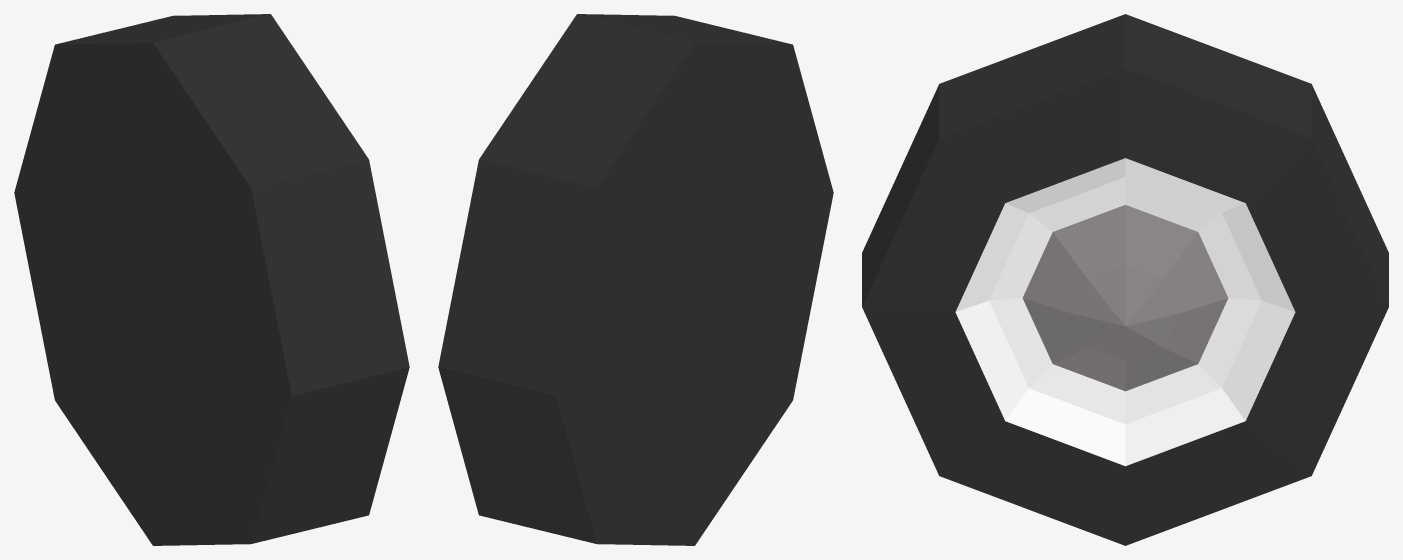
Rendered from car-veteran-wheel_BL.glb.
3 views of the same model, side by side, from view 1: azimuth 30°, elevation 25°; view 2: azimuth 150°, elevation 25°; view 3: azimuth 270°, elevation 25° (orthographic). The views are drawn at different scales.
Visible parts, largest first — view 1: car-veteran-wheel_BL; view 2: car-veteran-wheel_BL; view 3: car-veteran-wheel_BL.
Part boxes in pixels (box(x1,y1,x2,y2)): car-veteran-wheel_BL: box(14, 14, 409, 545); car-veteran-wheel_BL: box(438, 14, 833, 545); car-veteran-wheel_BL: box(862, 14, 1388, 545).
Bounding box in the file's own units: 0.2393 × 0.7234 × 0.7234.
Materials: 1 (1 with a texture image).
